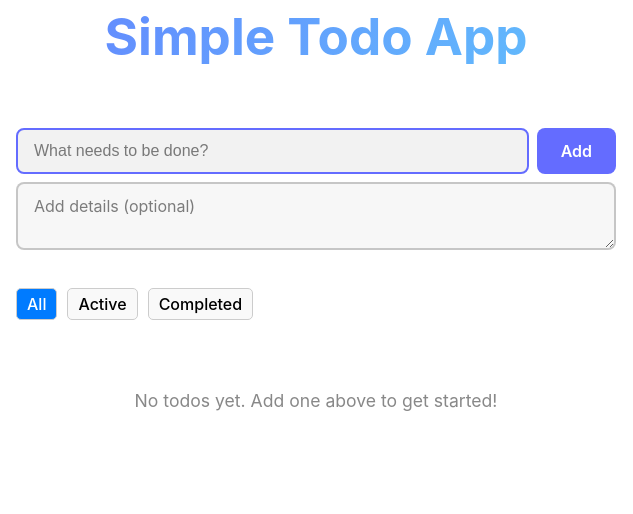
Test: App › deletes multiple todos and returns to empty state
Type "Todo 1" into the field with placeholder "What needs to be done?".
click(272, 151); type("Todo 1")  # box [16,128,529,174]
Then press Enter
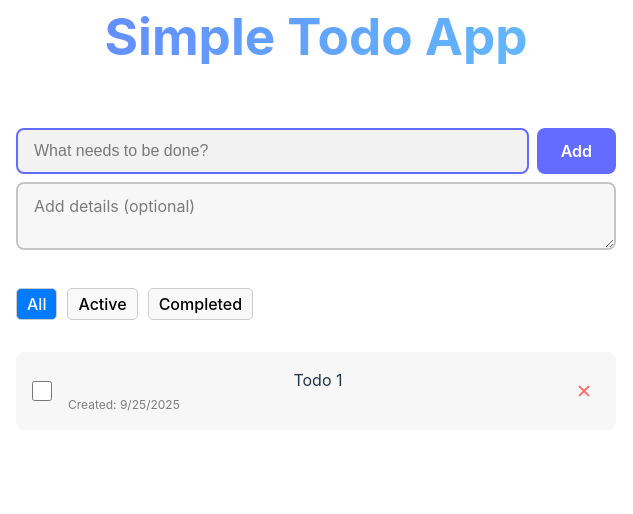
Type "Todo 2" into the field with placeholder "What needs to be done?".
click(272, 151); type("Todo 2")  # box [16,128,529,174]
Then press Enter
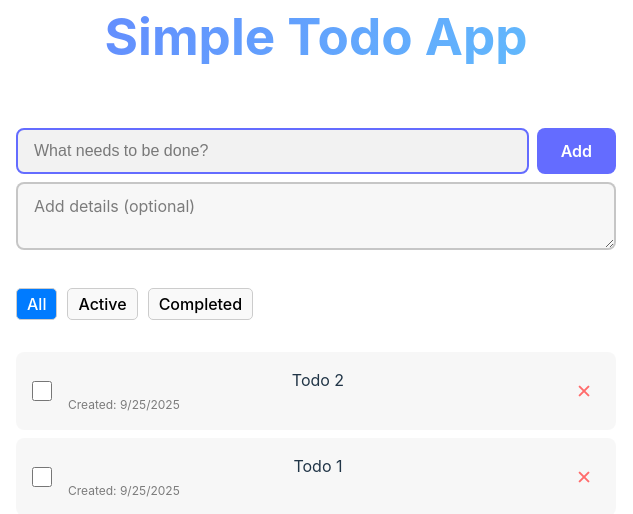
Click the button named "Delete todo".
click(584, 391)  # box [568,371,600,411]
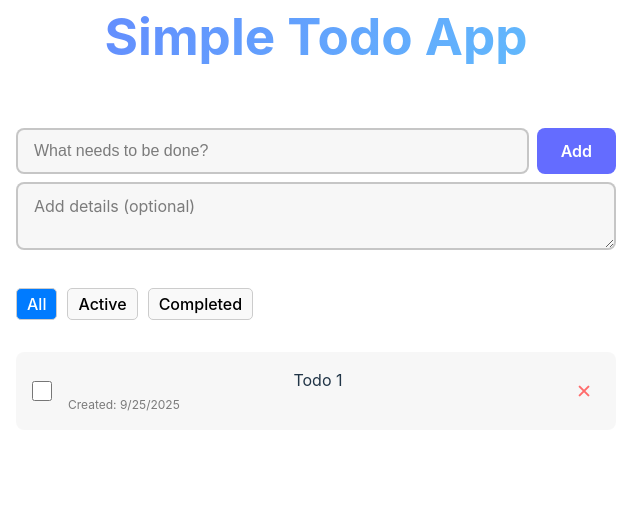
Click the button named "Delete todo".
click(584, 391)  # box [568,371,600,411]
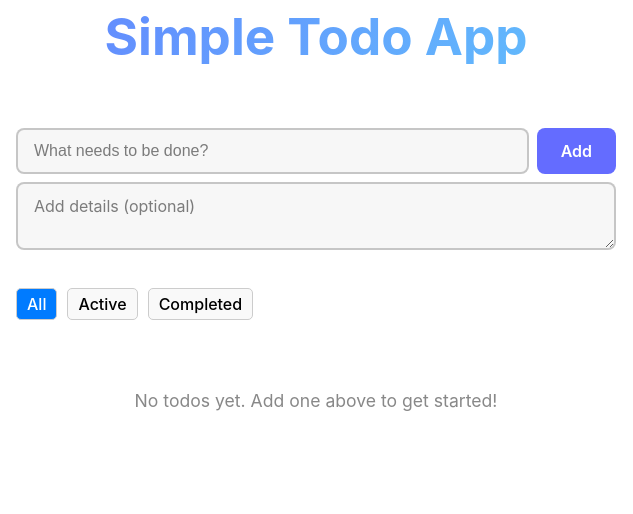
Check: the text "Todo 2" is not shown
Check: the text "Todo 1" is gone
Check: the text "No todos yet. Add one above to get started!" is shown, box [135,390,497,411]
